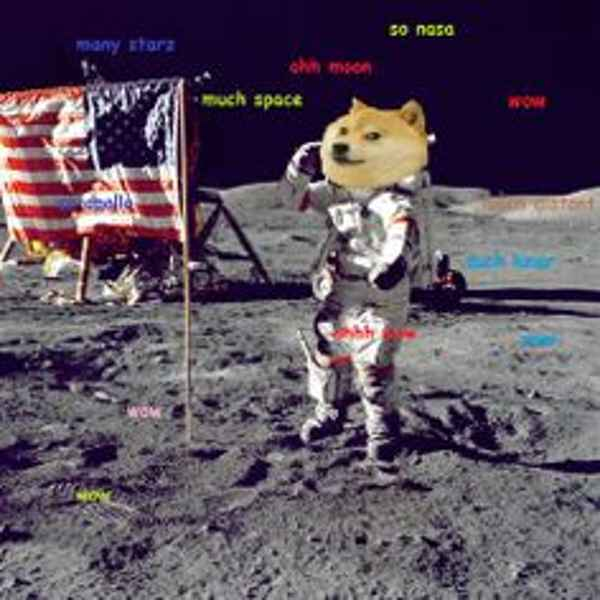doge: (317, 94, 431, 184)
